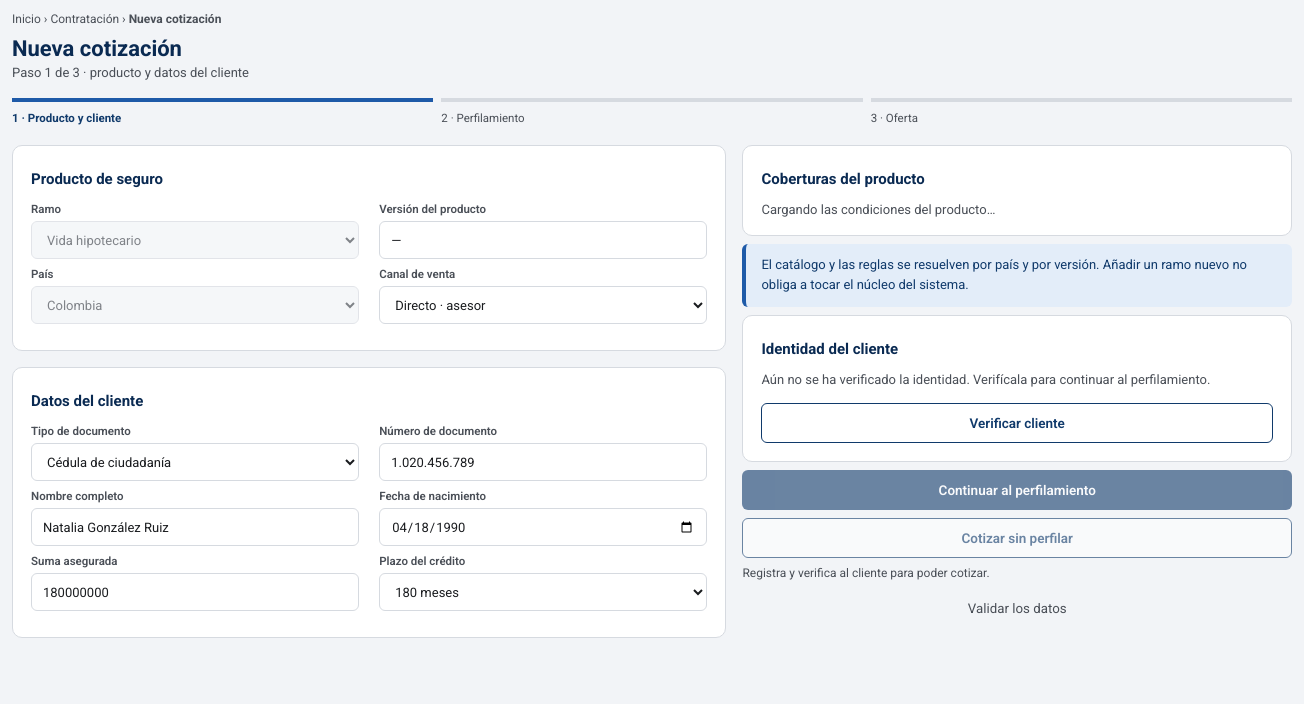
Test: NuevoPerfilamientoComponent (paso 1, C01 mínimo) › WT-W12-01 · estado de carga (D01 simplificado) › desaparece si la solicitud falla y vuelve el formulario con sus datos y la alerta
Click the button "Verificar cliente" at x=1017, y=423, box [761, 403, 1273, 443]
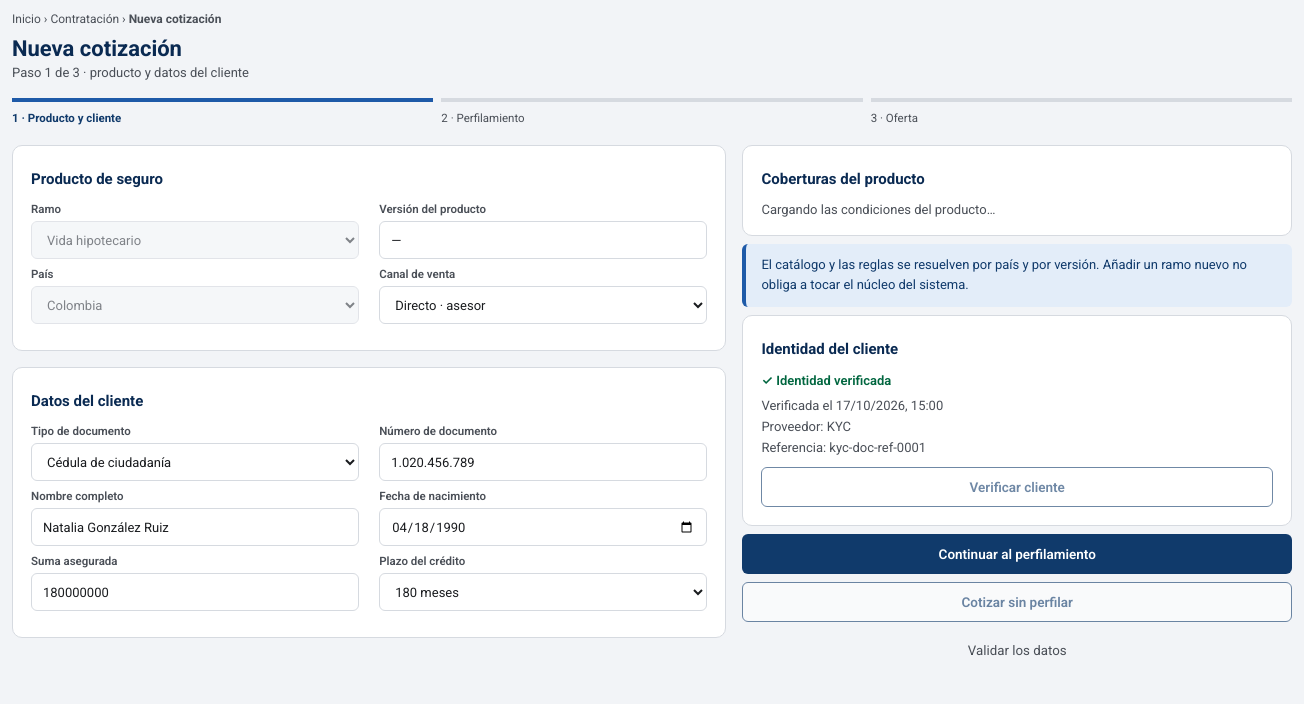
Click the submit button at x=1017, y=554, box [742, 534, 1292, 574]
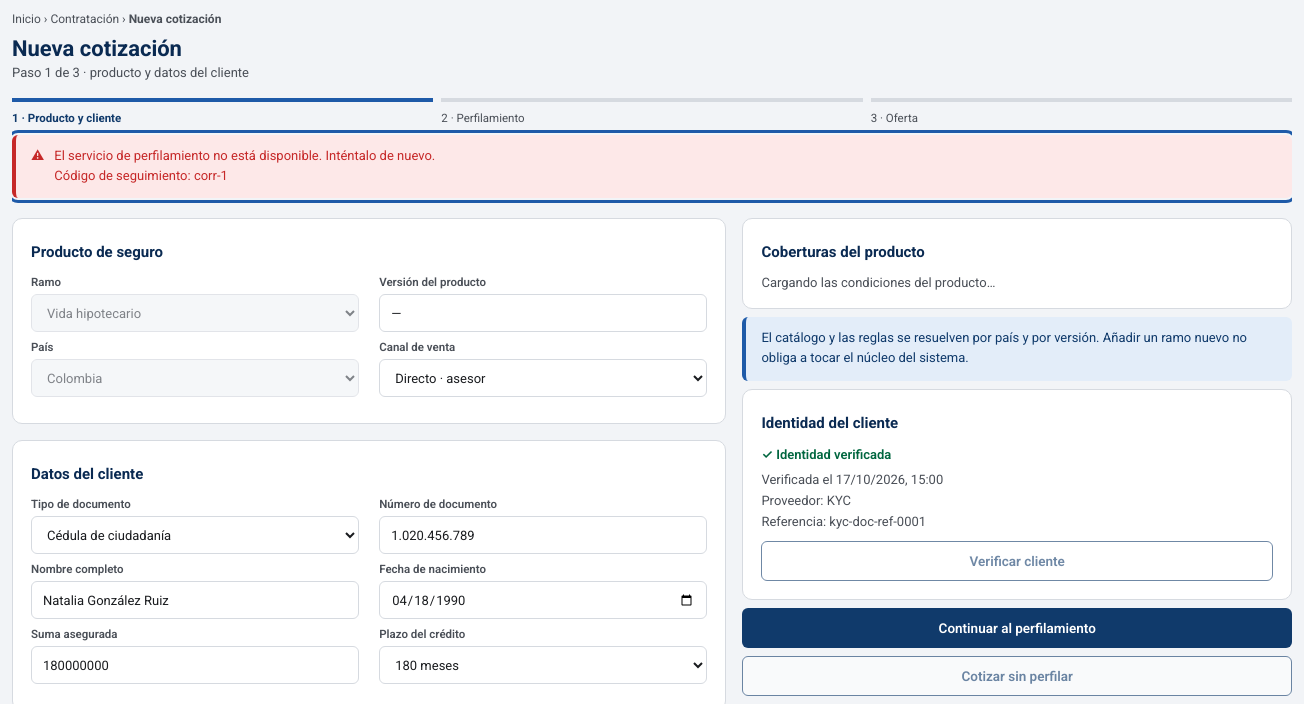
expect the 1st message is shown: met, box [12, 135, 1292, 198]
